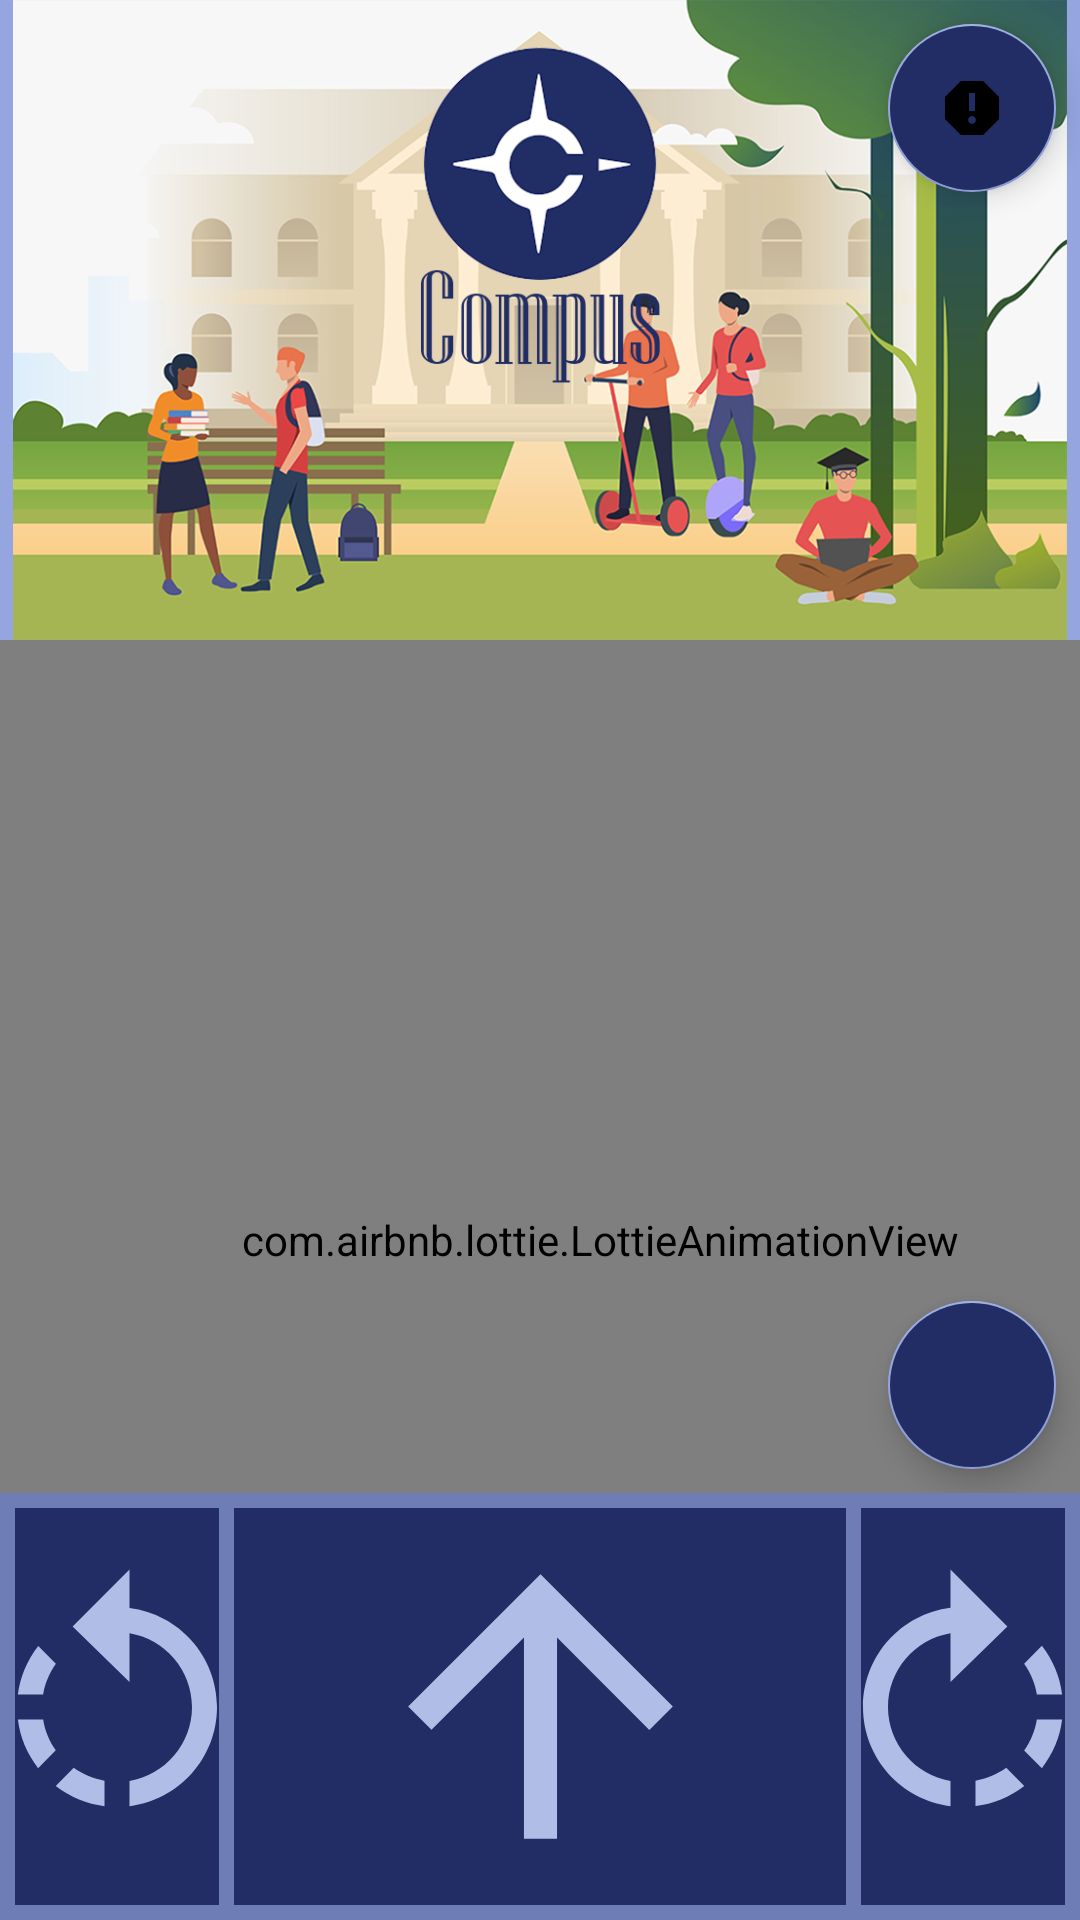

Point at icon controls on the screen. Image size 1080*1920, points as [x,y].
report: [972,108]
